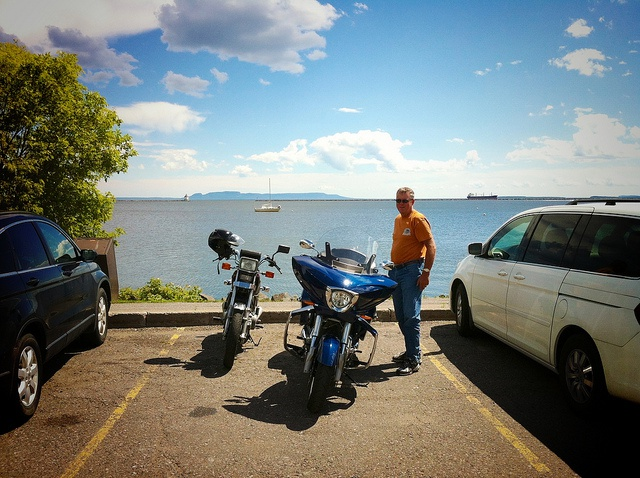non-vehicle: (283, 225, 398, 411), (209, 237, 289, 368)
